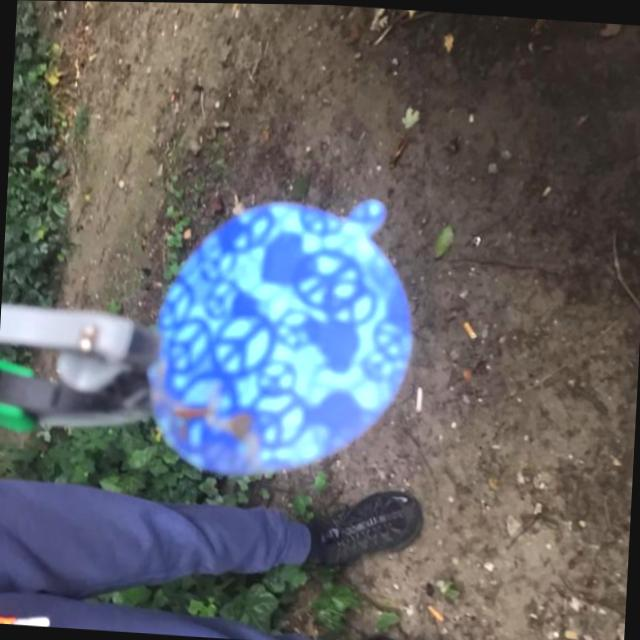Paper: (139, 181, 422, 489)
